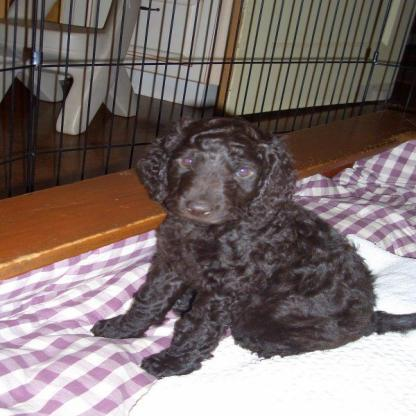Irish_water_spaniel: (89, 110, 414, 379)
